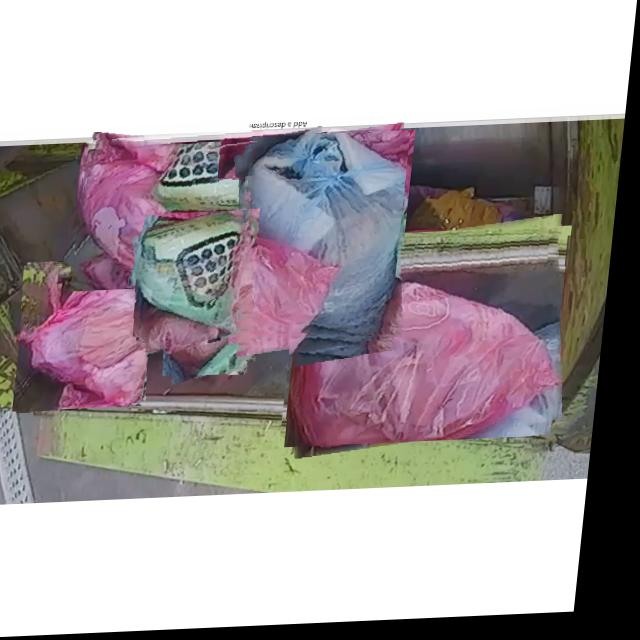general_trashbag: (142, 213, 248, 337)
other_trashbag: (301, 253, 569, 449), (248, 137, 410, 339), (84, 139, 255, 288), (31, 266, 158, 405), (170, 295, 256, 382), (224, 140, 325, 179)
